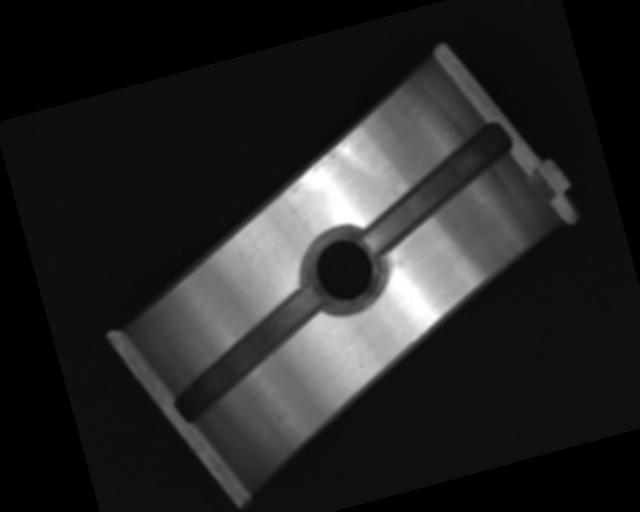gap: (154, 281, 340, 425), (343, 119, 527, 256)
hole: (297, 218, 390, 323)
